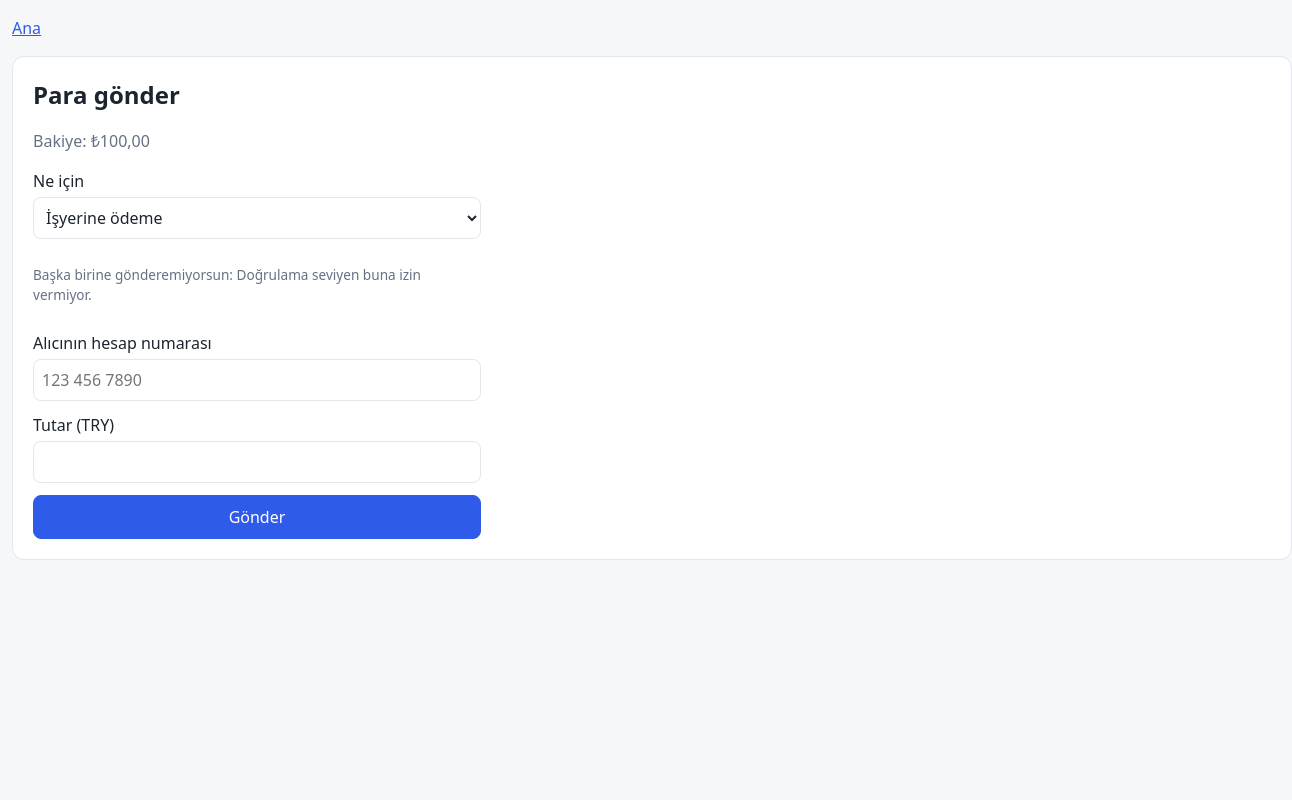
Test: TransferPage › kişiye gönderim kapalıysa işyerine ödemeyle açılıyor
The width and height of the screenshot is (1292, 800).
Expected: the dropdown labelled "Ne için" shows "İşyerine ödeme", x1=33 y1=197 x2=481 y2=239
In the field labelled "Alıcının hesap numarası": (257,380) x1=33 y1=359 x2=481 y2=401, type "123 456 7897"
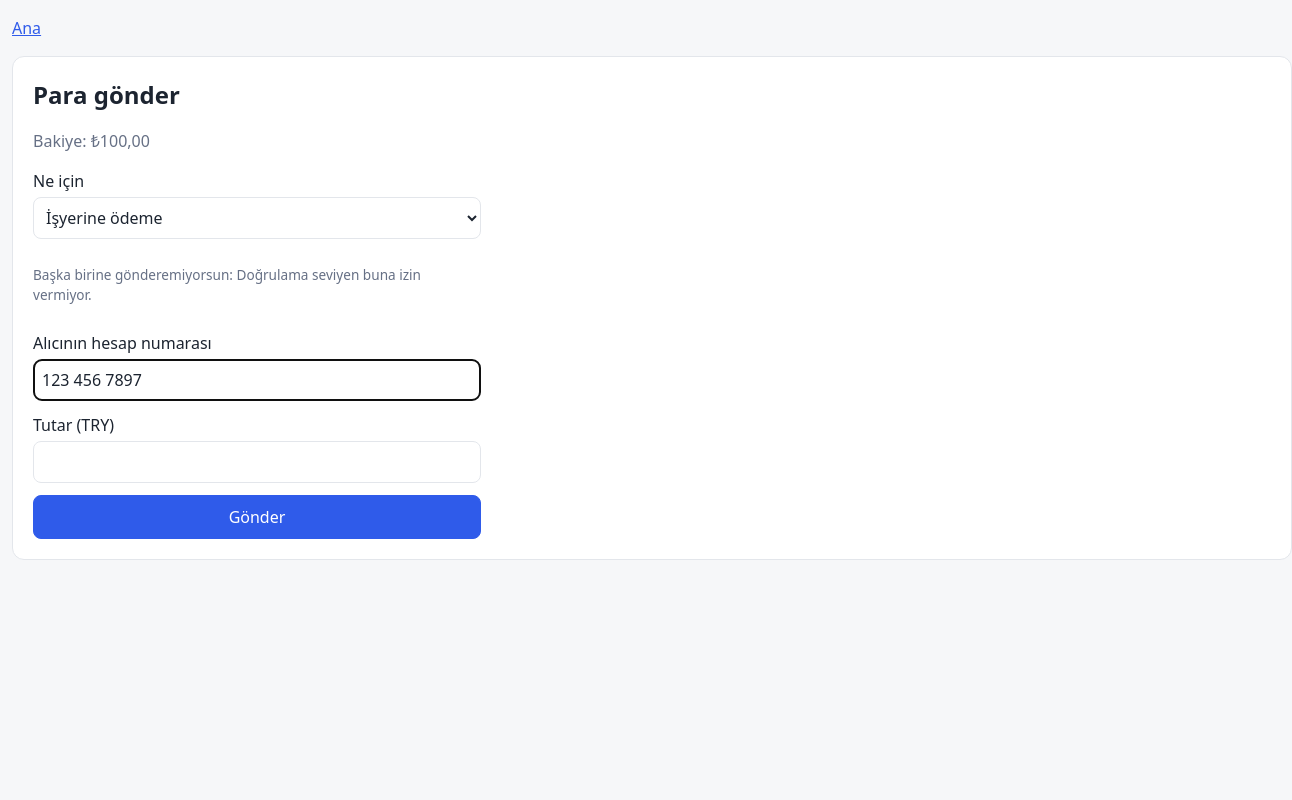
In the number field labelled "Tutar (TRY)": (257,462) x1=33 y1=441 x2=481 y2=483, type "25"
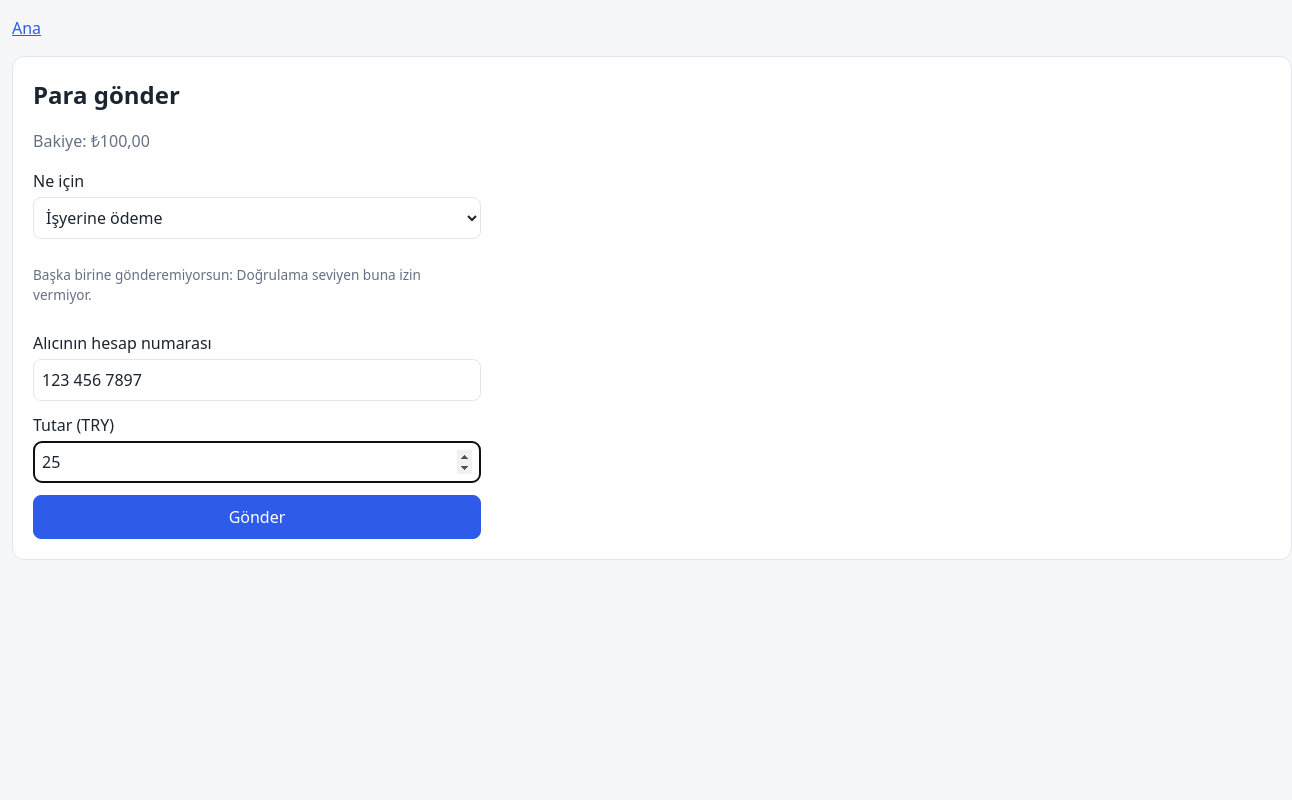
Click the button "Gönder": (257,517) x1=33 y1=495 x2=481 y2=539
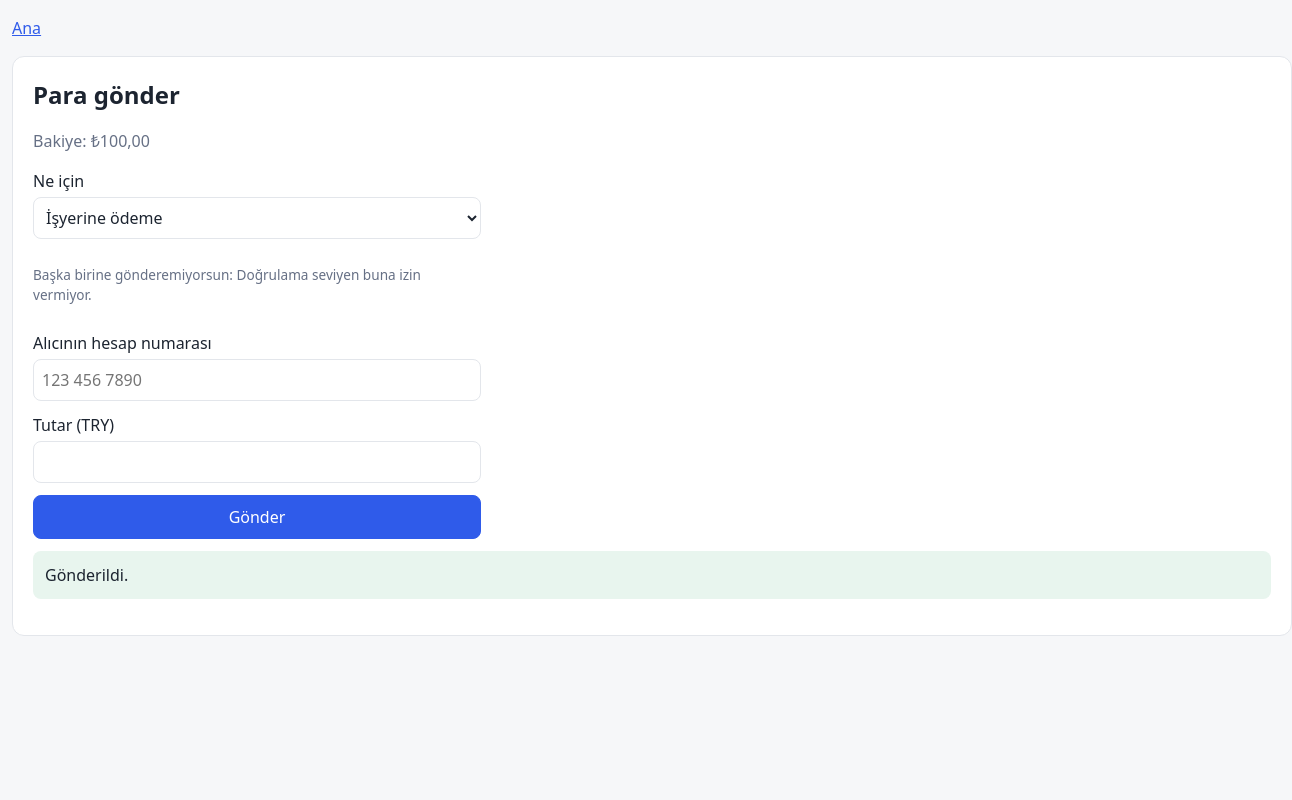
Expected: the text "Gönderildi." is shown, x1=33 y1=551 x2=1271 y2=599
